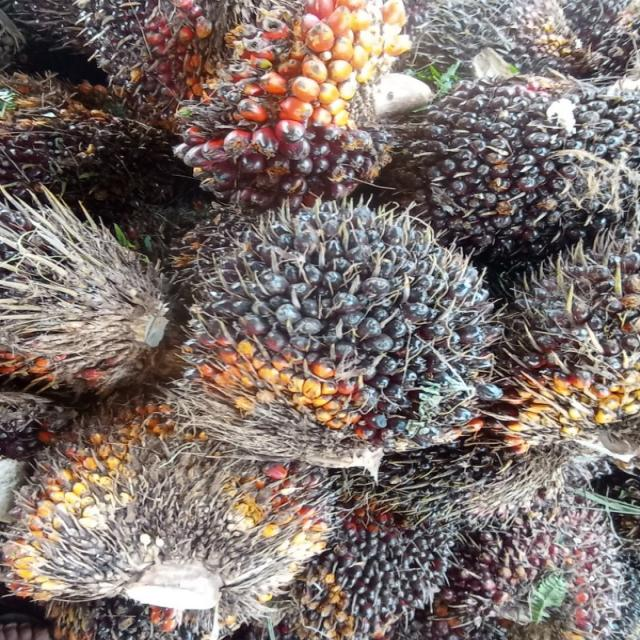fraksi 00: (421, 65, 640, 249)
fraksi 1: (188, 209, 508, 464), (175, 0, 407, 200)
